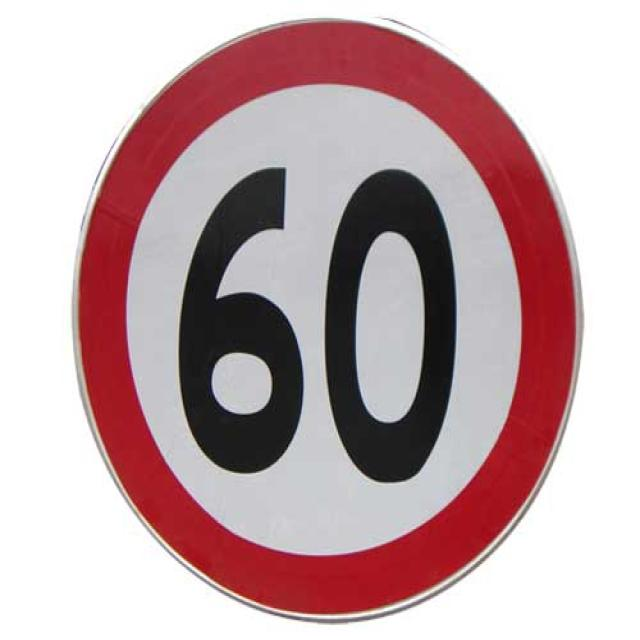speed limit 60: (70, 12, 583, 627)
